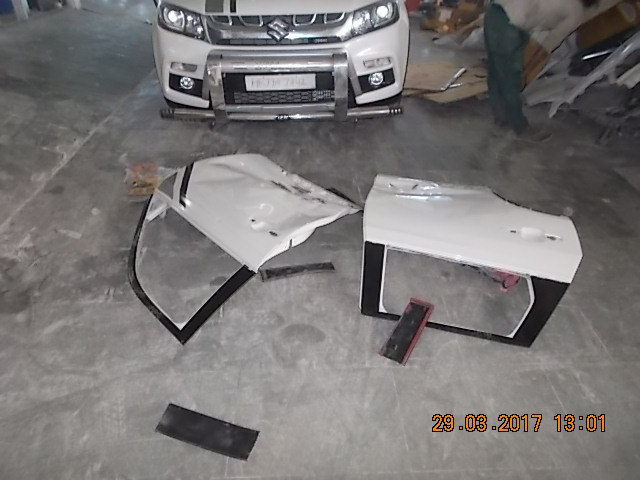Dislocation: (260, 296, 343, 389)
Scratch_or_spot: (413, 247, 472, 298)
